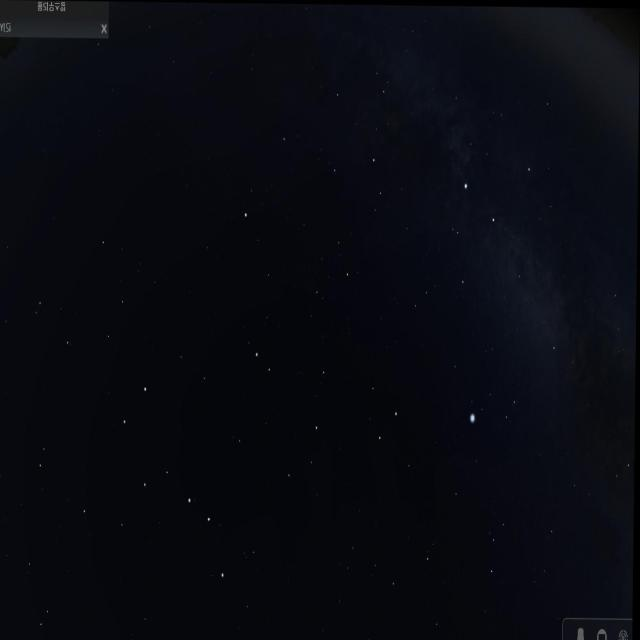cygnus: (456, 145, 564, 365)
lyra: (468, 369, 528, 439)
ursa_major: (117, 375, 230, 589)
